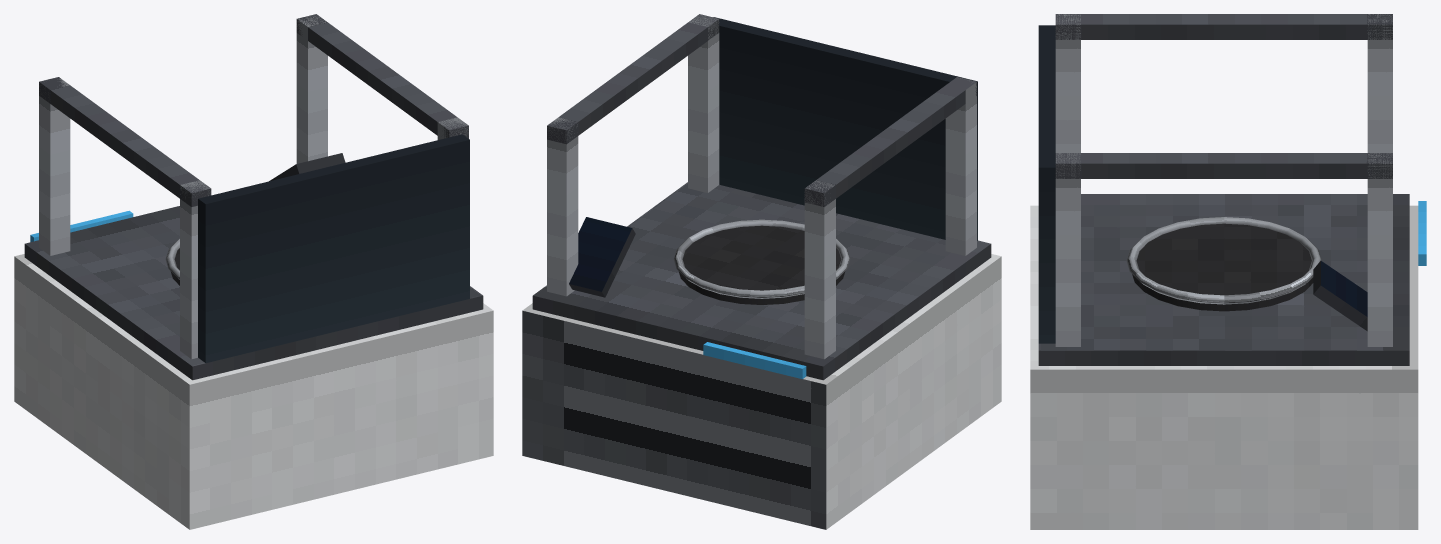
Rendered from chip_fab.obj.
3 renders of one model, left to right at view 1: azimuth 30°, elevation 25°; view 2: azimuth 150°, elevation 25°; view 3: azimuth 270°, elevation 25°, orthographic. The views are drawn at different scales.
Bounding box in the file's own units: 0.92 × 0.94 × 0.94.
